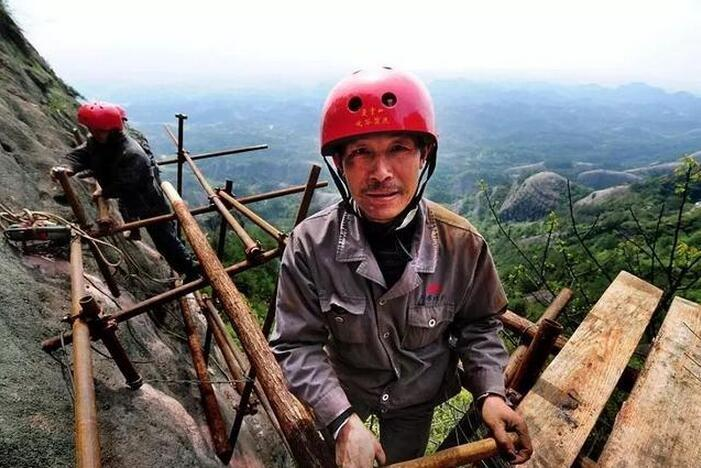helmet: (318, 63, 443, 155), (80, 100, 125, 135)
